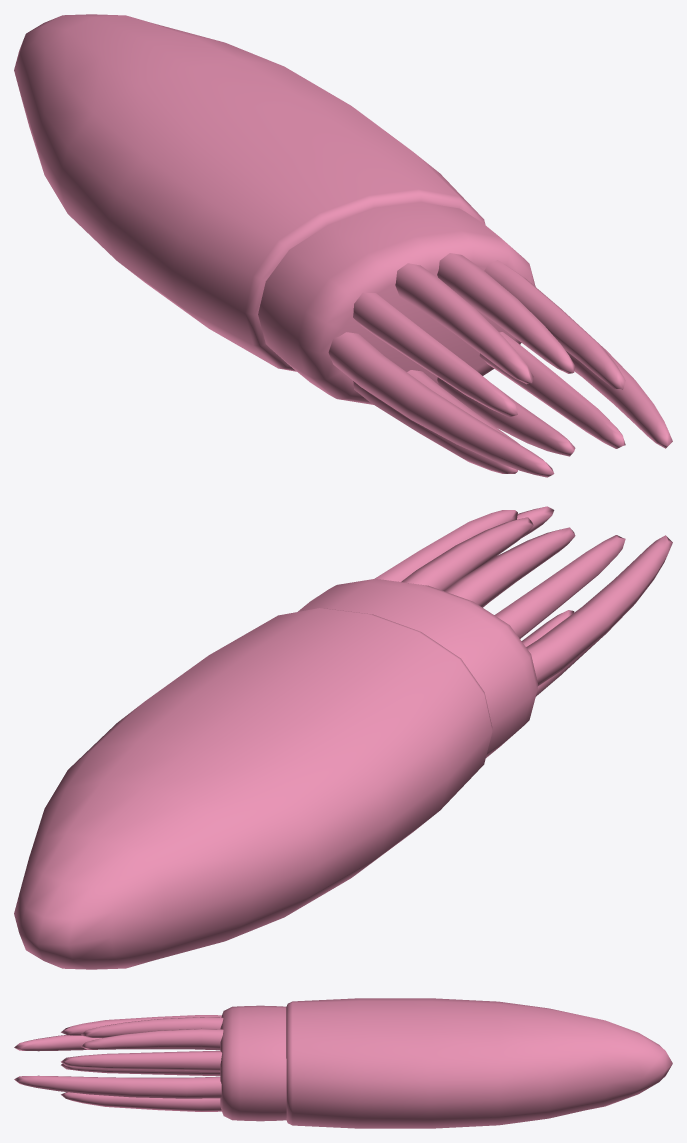
The model's file is Squid_1.fbx.
3 views of the same model, one above another, from view 1: azimuth 30°, elevation 25°; view 2: azimuth 150°, elevation 25°; view 3: azimuth 270°, elevation 25° (orthographic). The views are drawn at different scales.
Parts seen in each view (by area): view 1: Squid_1; view 2: Squid_1; view 3: Squid_1.
Part boxes in pixels (box(x1,y1,x2,y2)): Squid_1: box(14, 14, 672, 477); Squid_1: box(14, 506, 672, 969); Squid_1: box(14, 998, 672, 1128).
Size of the model in its own units: 11.59 by 6.85 by 40.88.
